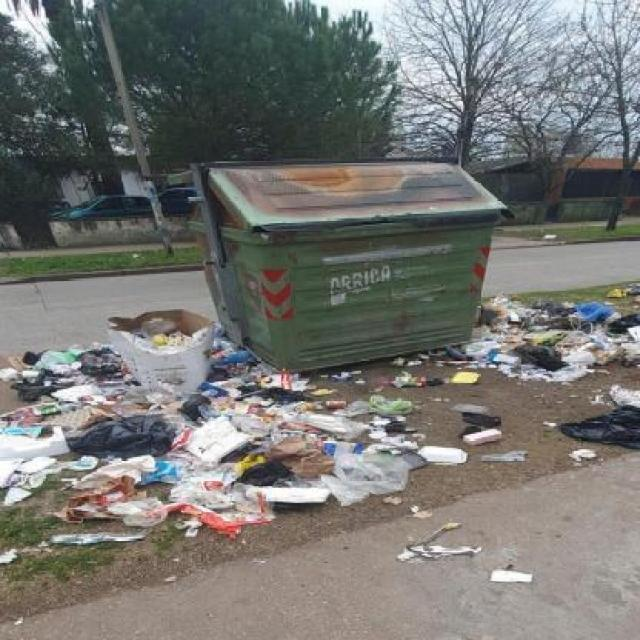garbage: (0, 329, 324, 550), (300, 361, 554, 584), (483, 292, 638, 464), (99, 303, 242, 374)
